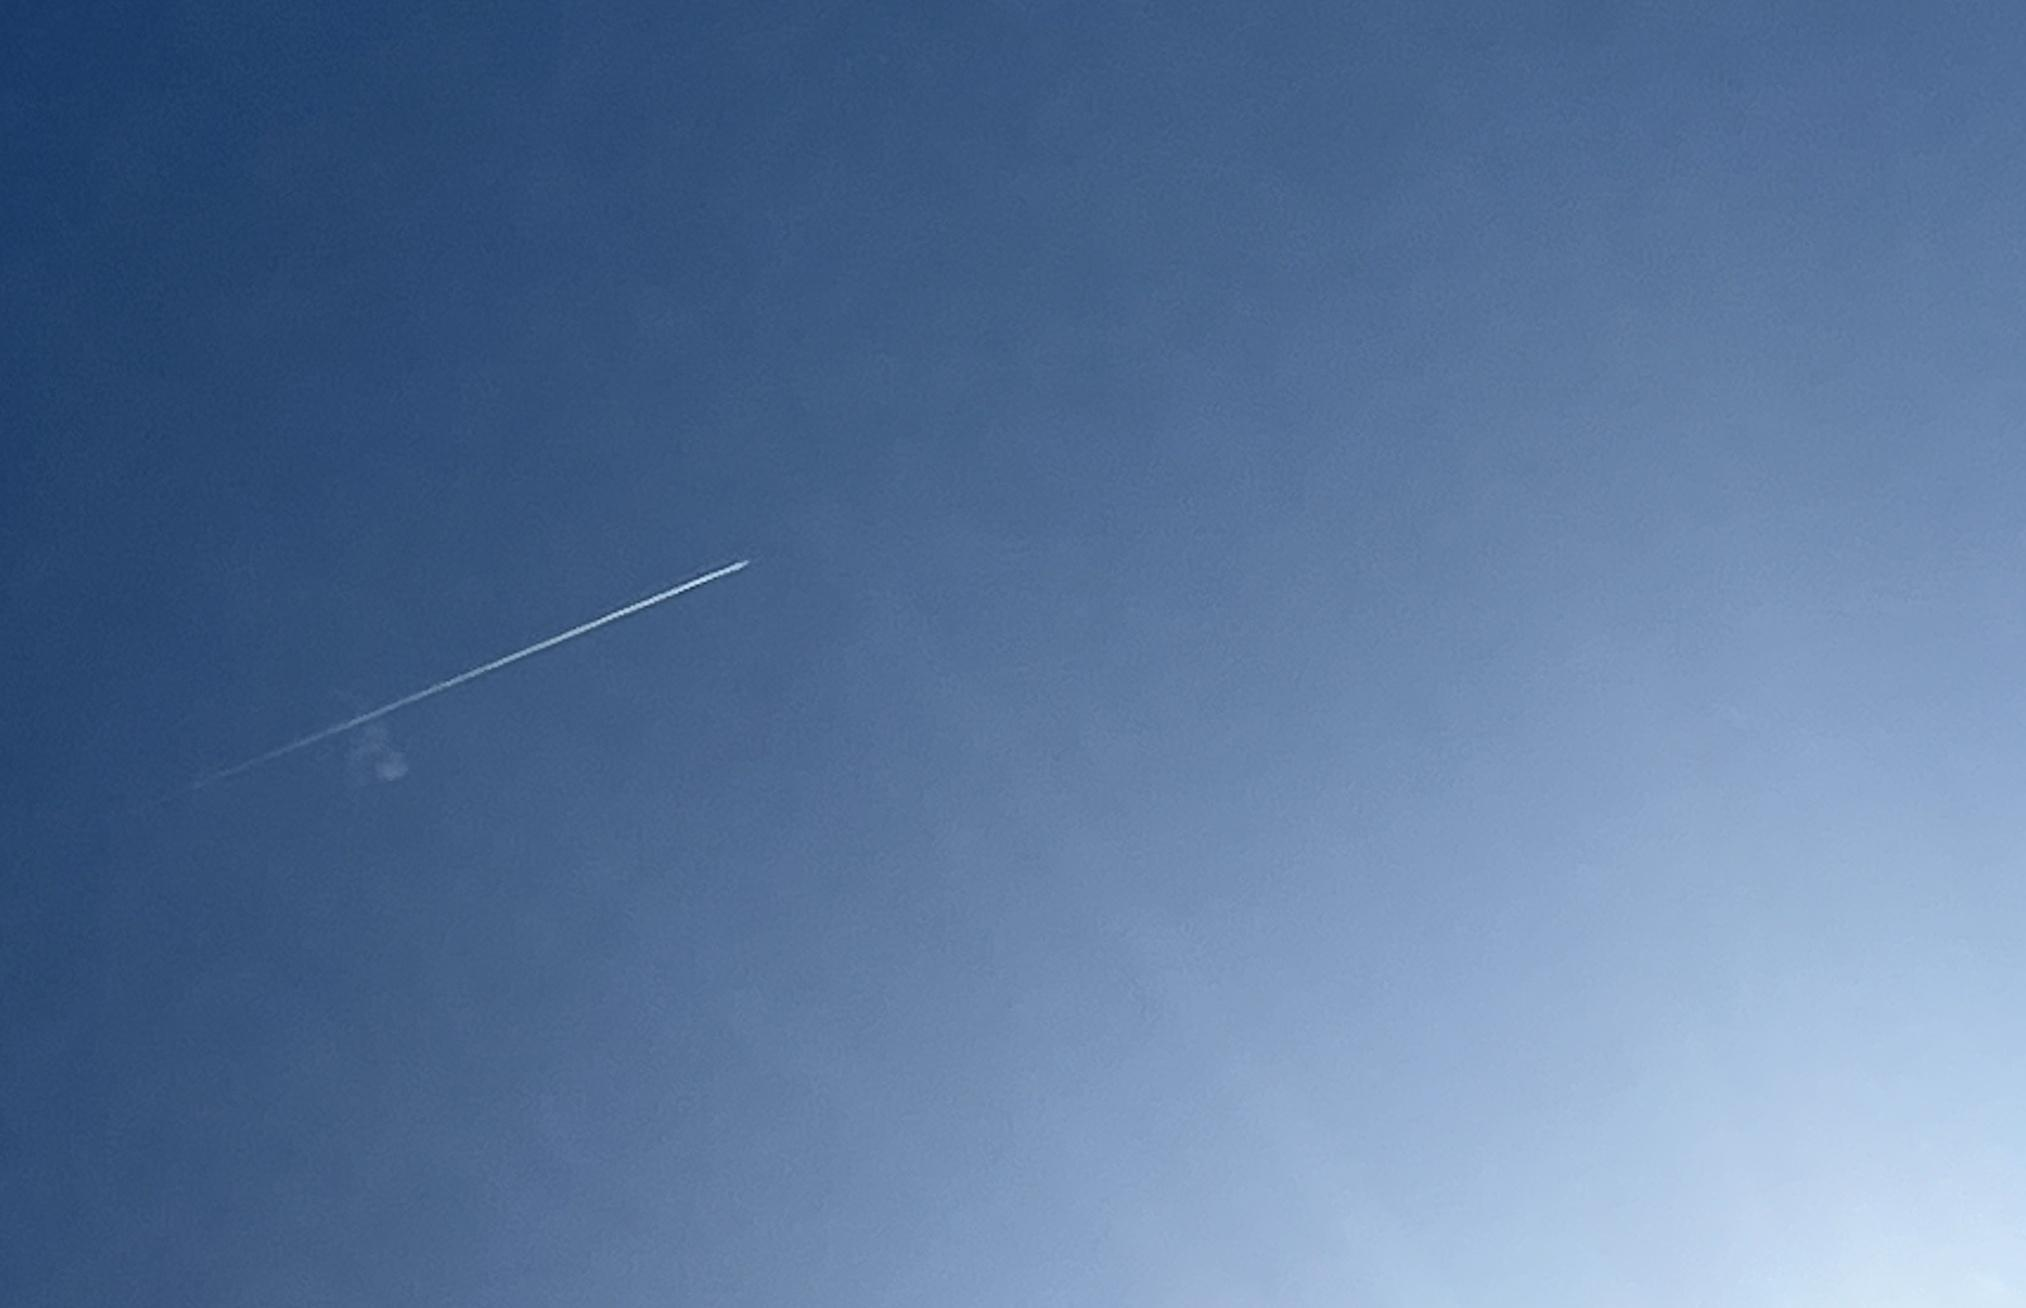Plane: (84, 536, 808, 855)
